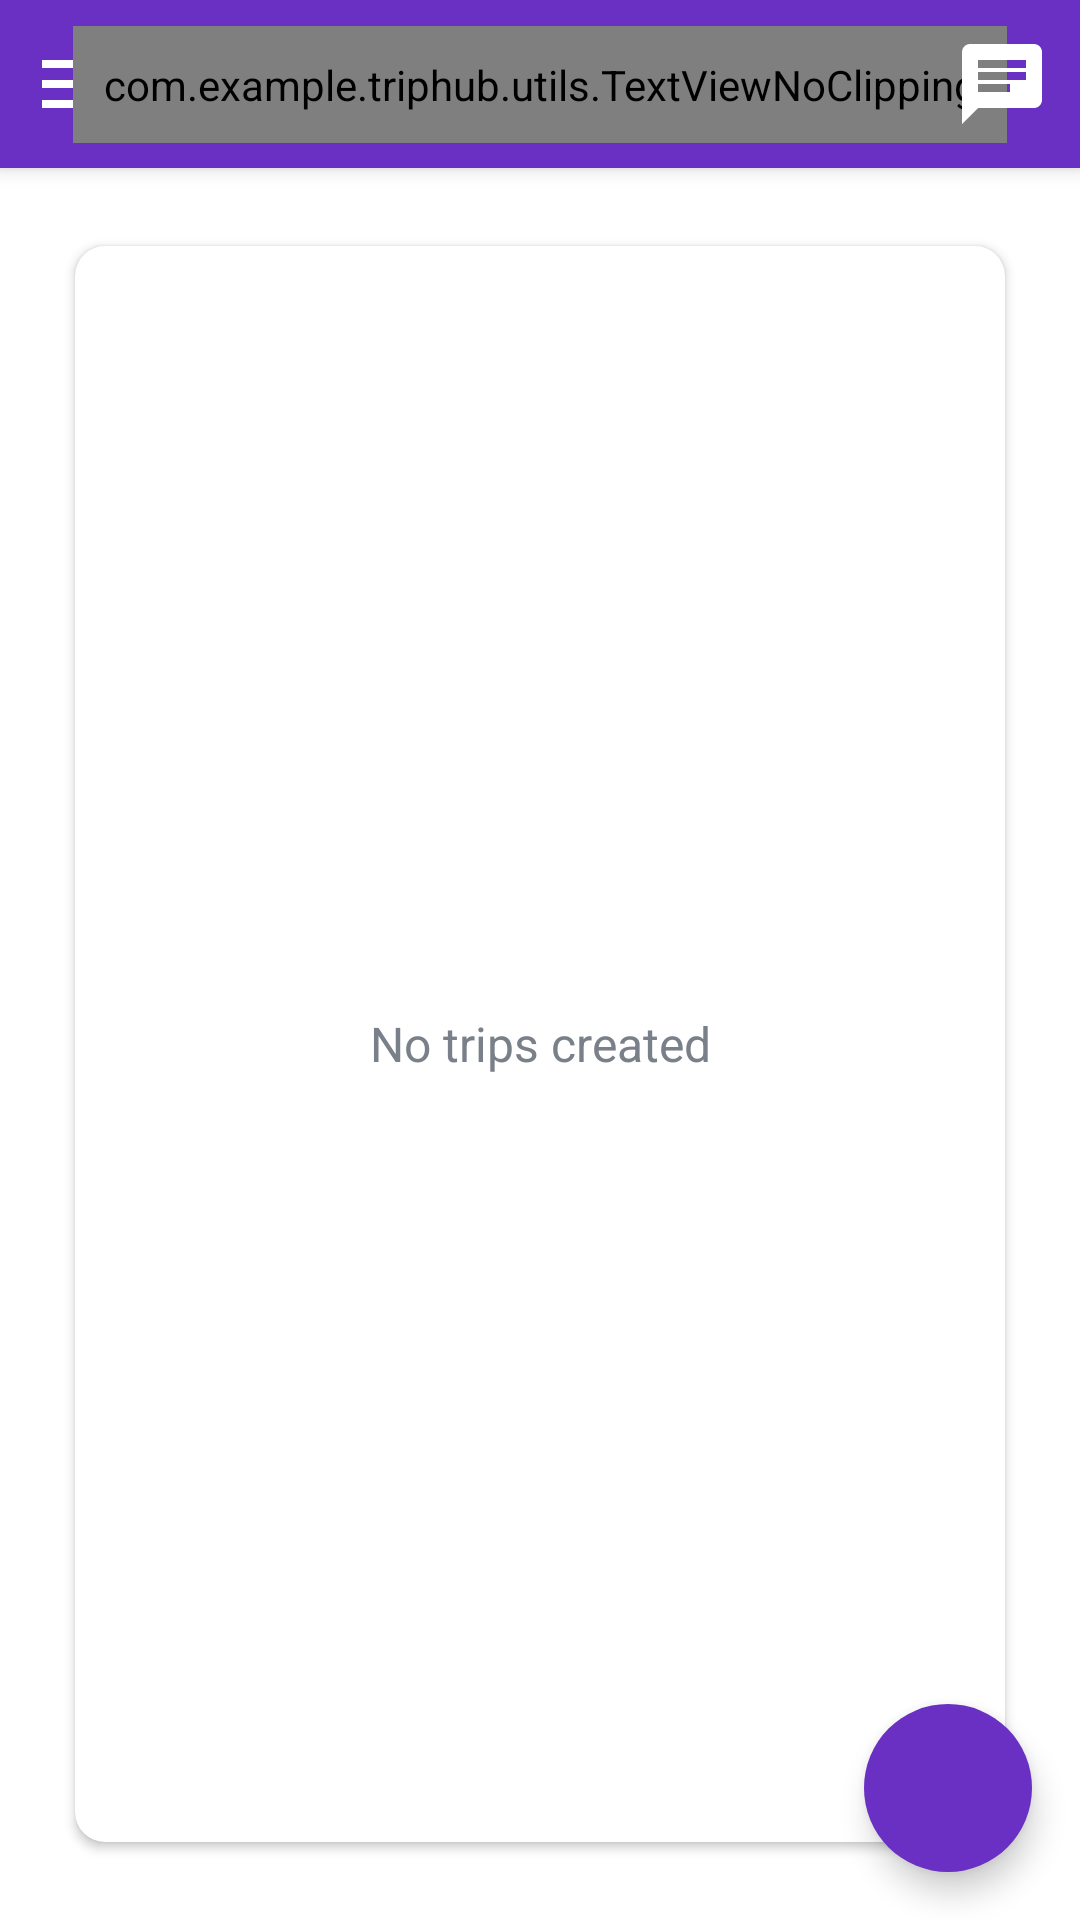

Screen size 1080w x 1920h. Icon name, then its center in pixels as [x,y]:
Chat: [1002,84]
